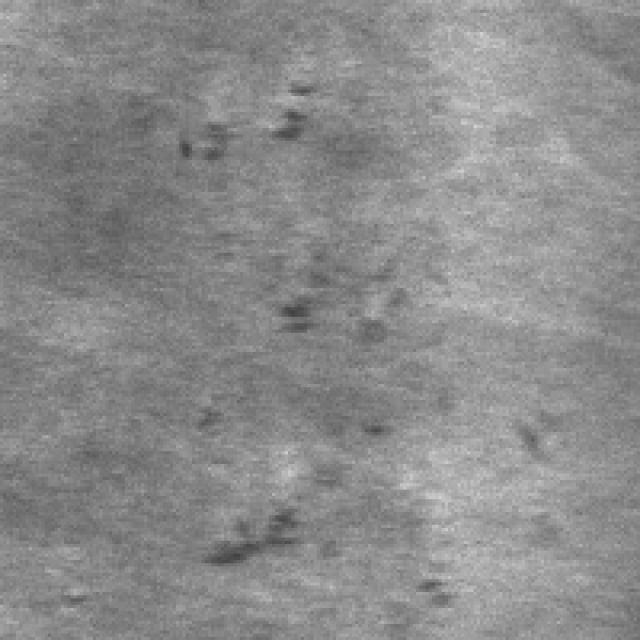rolled-in_scale: (208, 262, 454, 580), (179, 67, 339, 163)
